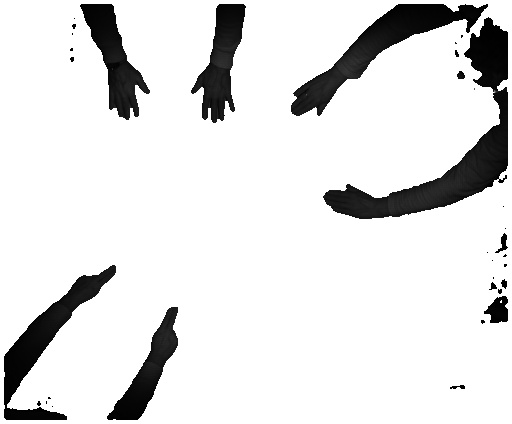hand: (184, 70, 238, 127), (288, 73, 342, 119), (320, 184, 381, 223), (106, 68, 151, 119), (68, 264, 119, 308), (149, 304, 183, 362)
